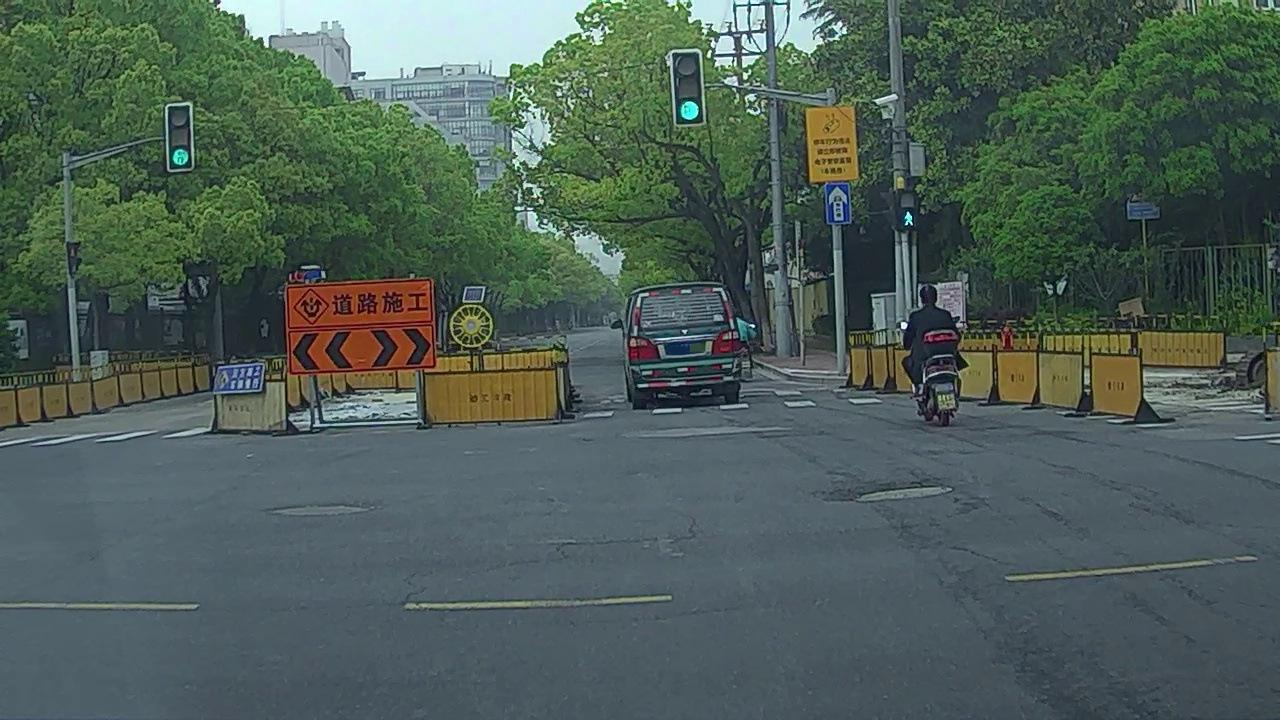traffic_light: (675, 55, 703, 123), (169, 108, 192, 167)
